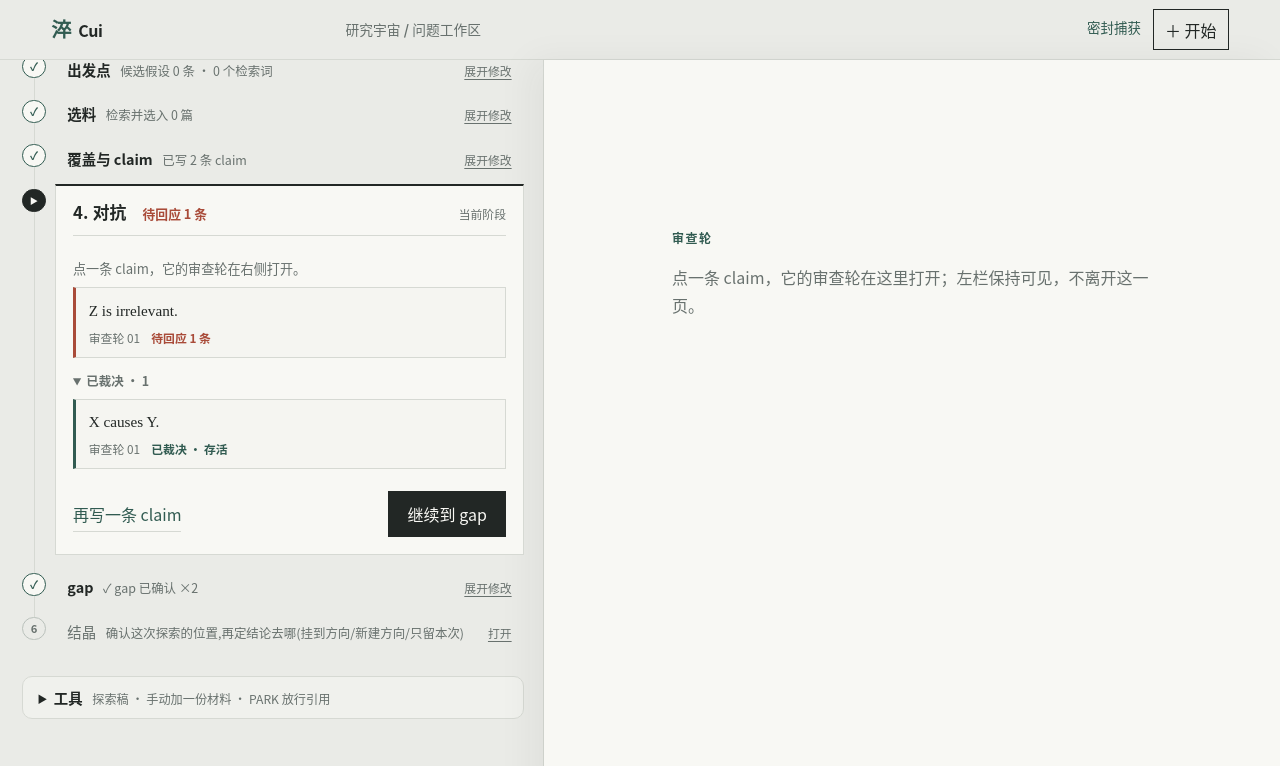
Scenario: 结晶 stage: 账本 on the right › shows the 账本 when no round is open, and the card points to it with the 仍待回应 count
(page scrolled)
Step 1. Click the button "结晶 确认这次探索的位置,再定结论去哪(挂到方向/新建方向/只留本次) 打开" → (290, 631), box x1=55 y1=611 x2=524 y2=652
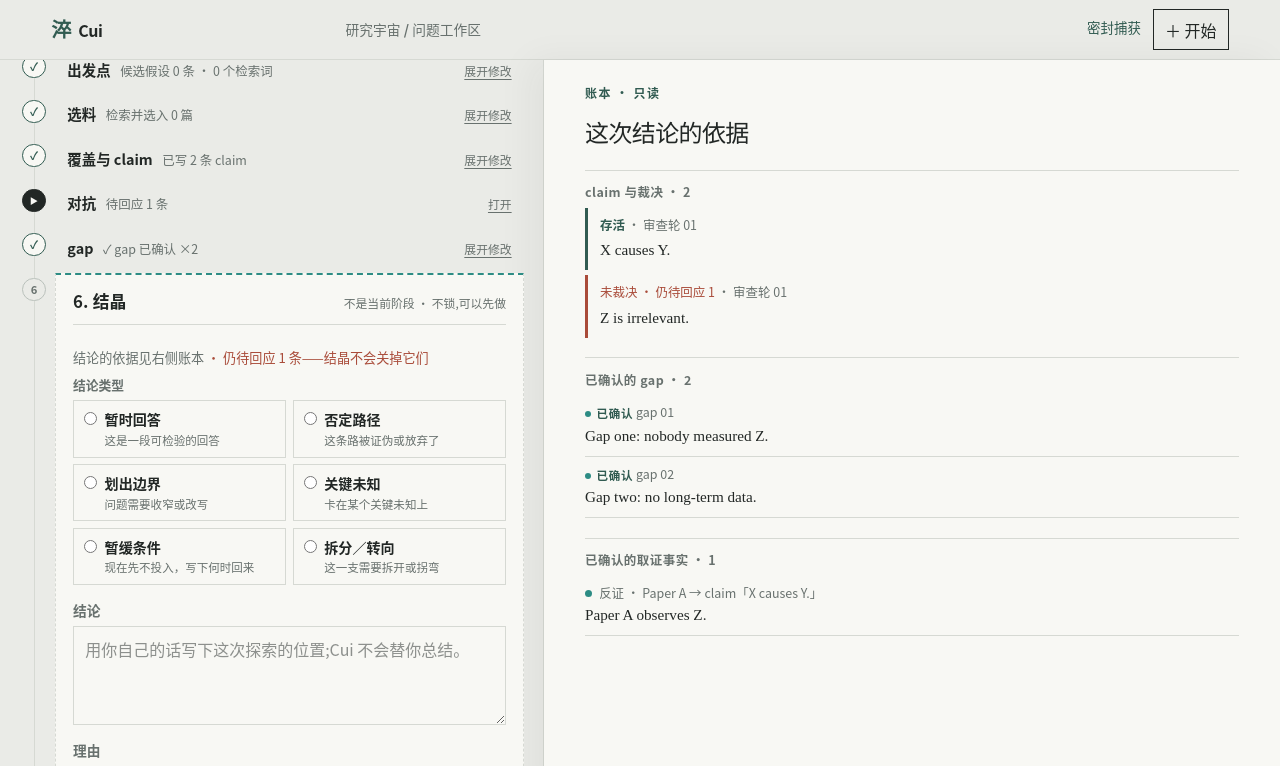
Expected: the heading "这次结论的依据" is shown, x1=585 y1=121 x2=749 y2=147
Expected: the button "存活 · 审查轮 01 X causes Y." is shown, x1=585 y1=208 x2=1239 y2=270
Expected: the button "未裁决 · 仍待回应 1 · 审查轮 01 Z is irrelevant." is shown, x1=585 y1=276 x2=1239 y2=338
